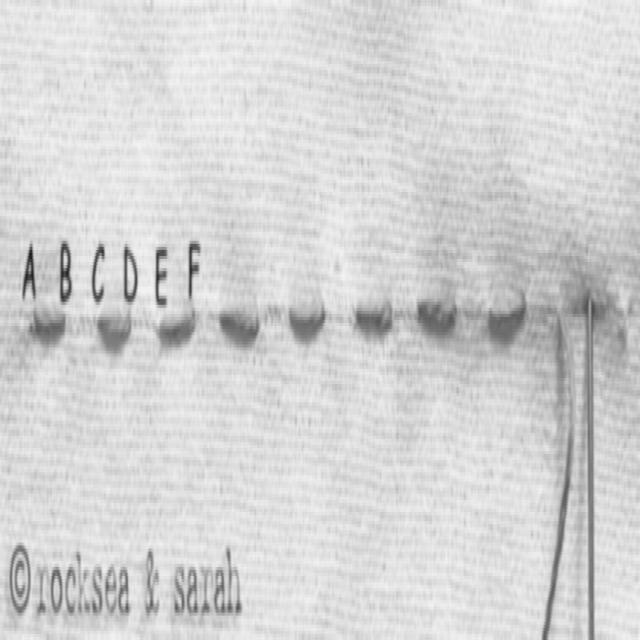stitch: (217, 299, 262, 350), (287, 293, 328, 347), (157, 299, 197, 354), (96, 299, 133, 354), (30, 296, 68, 347), (416, 283, 458, 327), (489, 292, 526, 327), (355, 300, 392, 327)
